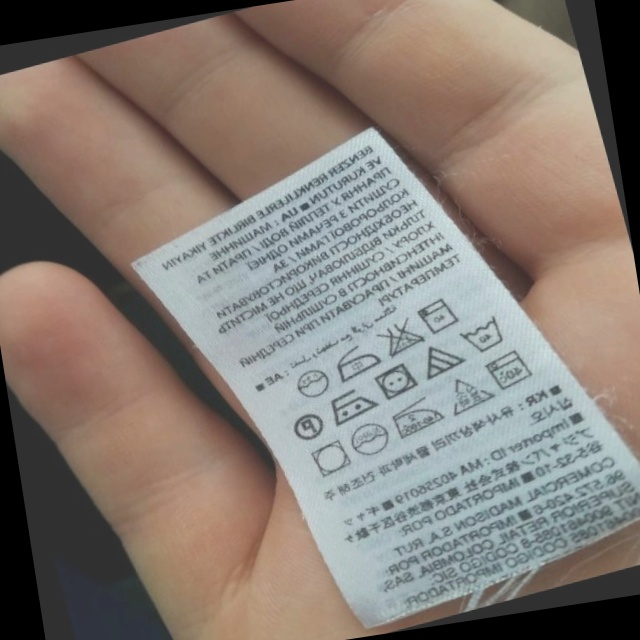40C: (454, 313, 507, 359), (483, 346, 532, 395), (414, 294, 459, 339)
dry_clean: (344, 417, 393, 461), (289, 363, 334, 405)
dry_clean_any_solvent_except_trichloroethylene: (288, 408, 327, 444)
iron: (329, 340, 383, 383)
iron_medium: (386, 395, 446, 441), (325, 384, 377, 426)
non_chlorine_bleach: (441, 372, 493, 420), (415, 339, 465, 382)
tumble_dry_medium: (368, 358, 421, 403)
tumble_dry_normal: (305, 437, 356, 483)
